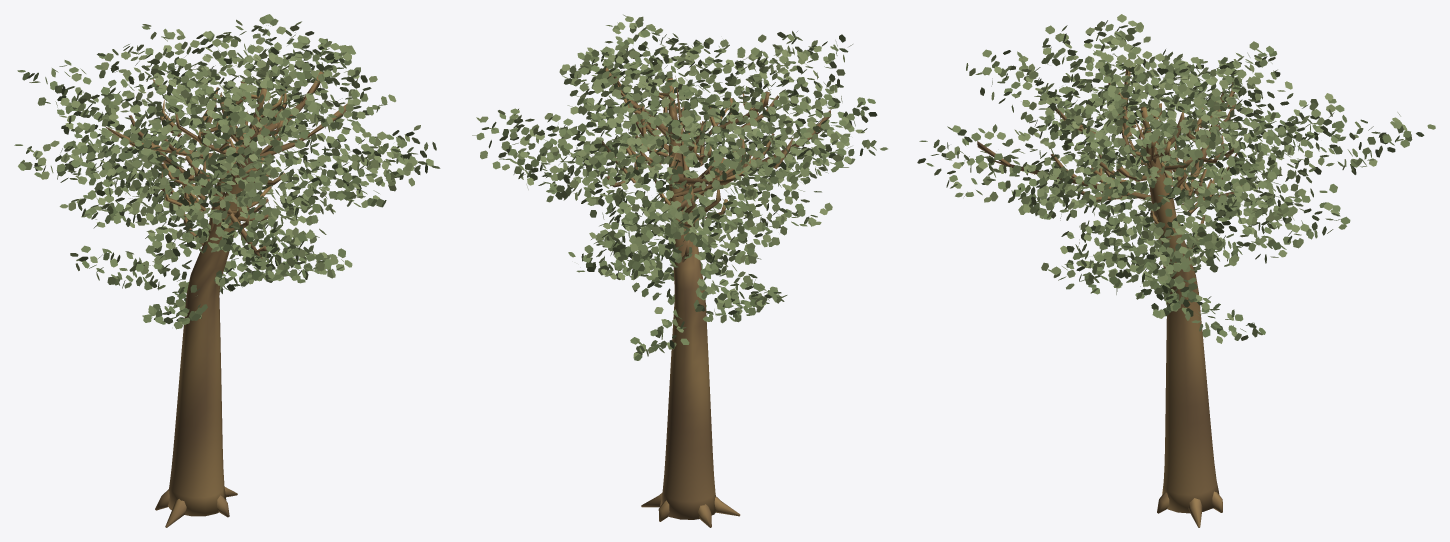
Rendered from open_green_lod2.glb.
3 renders of one model, left to right at view 1: azimuth 30°, elevation 25°; view 2: azimuth 150°, elevation 25°; view 3: azimuth 270°, elevation 25°, orthographic. The views are drawn at different scales.
Parts seen in each view (by area): view 1: Leaves.008, Trunk.008; view 2: Leaves.008, Trunk.008; view 3: Leaves.008, Trunk.008.
Part boxes in pixels (x1,y1,x2,y2): Leaves.008: [14, 14, 440, 329]; Trunk.008: [105, 71, 347, 527]; Leaves.008: [472, 14, 887, 360]; Trunk.008: [602, 68, 830, 527]; Leaves.008: [917, 14, 1435, 343]; Trunk.008: [977, 59, 1242, 527].
Bounding box in the file's own units: 4.68 × 5.75 × 5.81.
